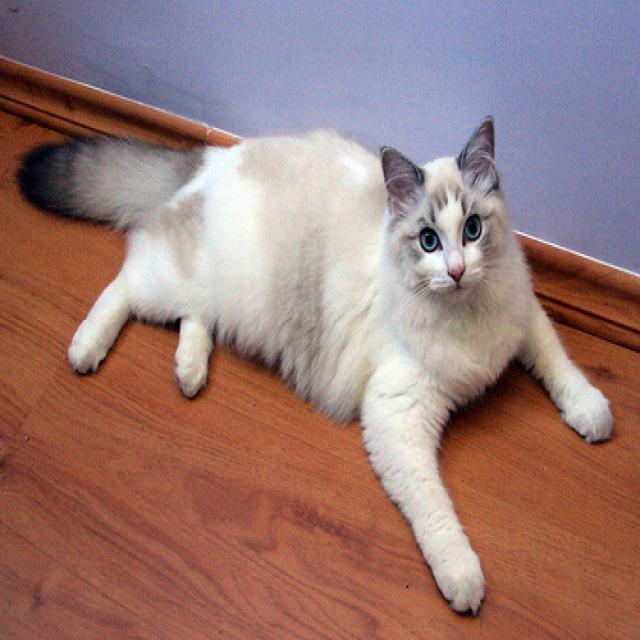Ragdoll: (379, 111, 502, 300)
